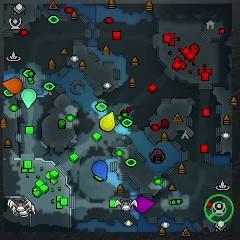p1: (93, 161, 107, 182)
p2: (21, 88, 36, 109)
p3: (134, 196, 154, 211)
p4: (100, 111, 116, 131)
p5: (3, 76, 23, 94)
